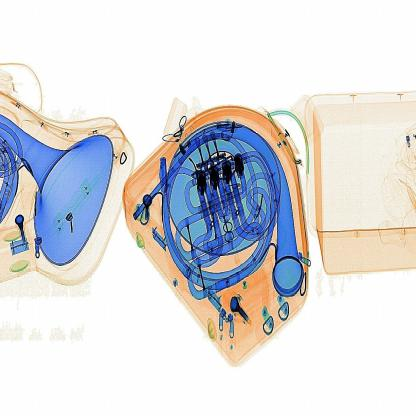knife: (155, 151, 176, 202)
